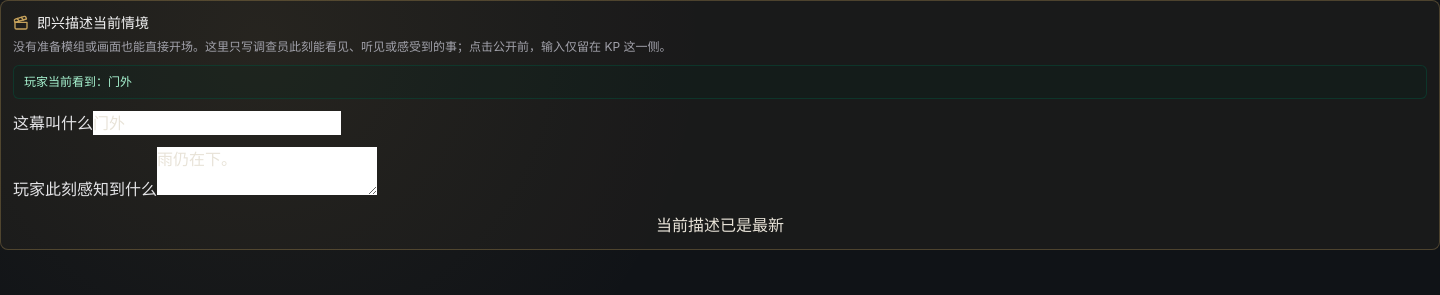
Test: ManualScenePresenterV2 › does not publish an incomplete or unchanged situation
Expected: the button "当前描述已是最新" is disabled, [13,213,1427,237]
Step 1. Clear the text box named "当前情境公开描述" → coordinates (267, 171), box [157,147,377,195]
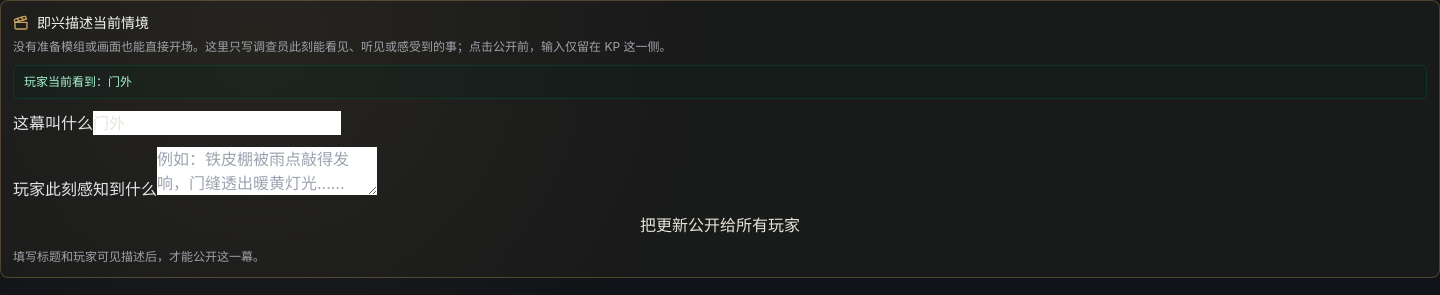
Expected: the text "填写标题和玩家可见描述后，才能公开这一幕。" is shown, [13,249,265,264]
